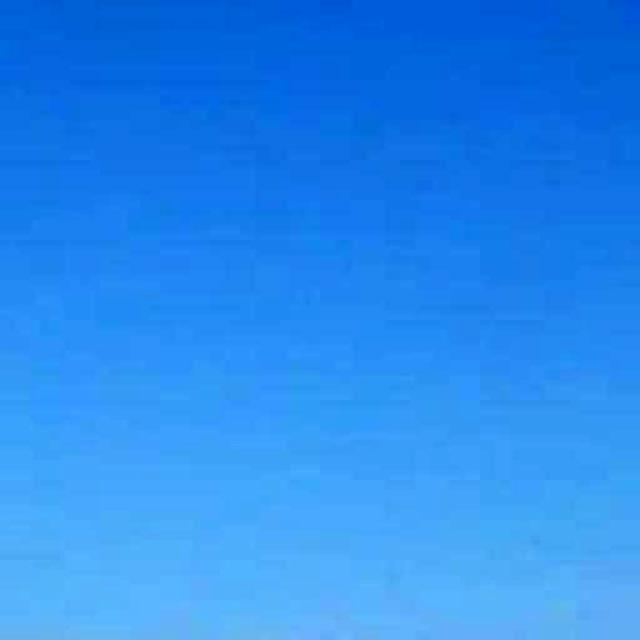drone: (504, 501, 566, 579)
